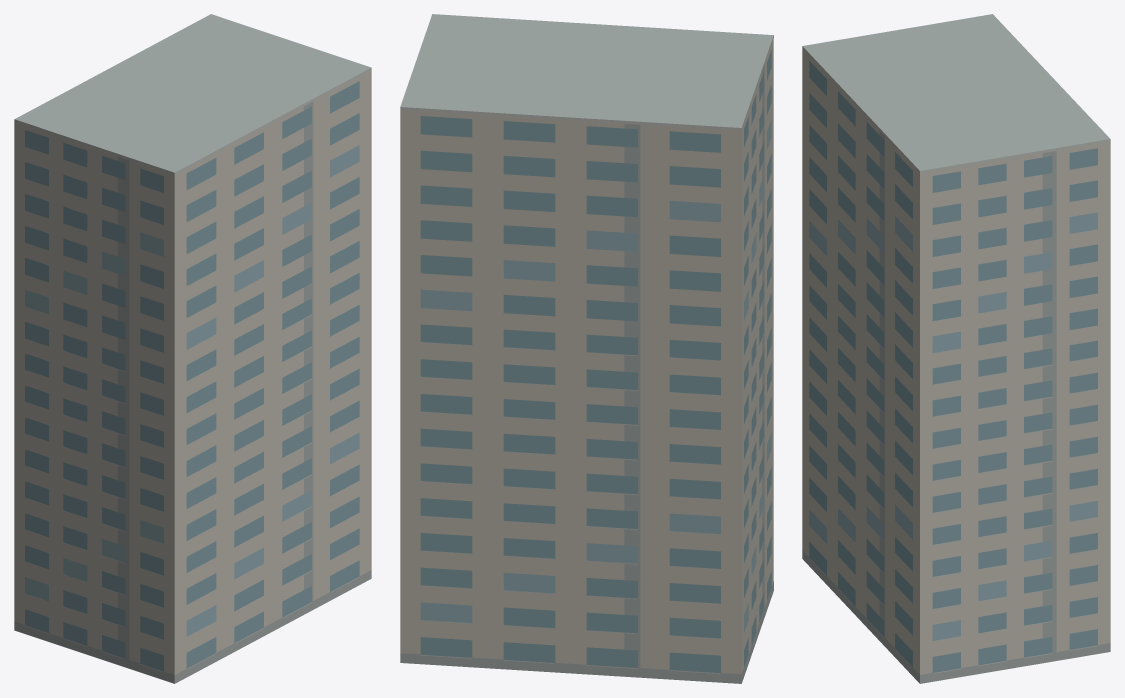
The model's file is residential-4cc3ca3e-7238-401a-9f1e-0534c71a1db4.glb.
3 views of the same model, side by side, from view 1: azimuth 30°, elevation 25°; view 2: azimuth 150°, elevation 25°; view 3: azimuth 270°, elevation 25° (orthographic). The views are drawn at different scales.
Visible parts, largest first — view 1: residential-4cc3ca3e-7238-401a-9f1e-0534c71a1db4.tmp; view 2: residential-4cc3ca3e-7238-401a-9f1e-0534c71a1db4.tmp; view 3: residential-4cc3ca3e-7238-401a-9f1e-0534c71a1db4.tmp.
Part boxes in pixels (x1,y1,x2,y2): residential-4cc3ca3e-7238-401a-9f1e-0534c71a1db4.tmp: (14, 14, 371, 683); residential-4cc3ca3e-7238-401a-9f1e-0534c71a1db4.tmp: (400, 14, 773, 683); residential-4cc3ca3e-7238-401a-9f1e-0534c71a1db4.tmp: (802, 14, 1110, 683).
Bounding box in the file's own units: 29.56 × 45 × 24.51.
